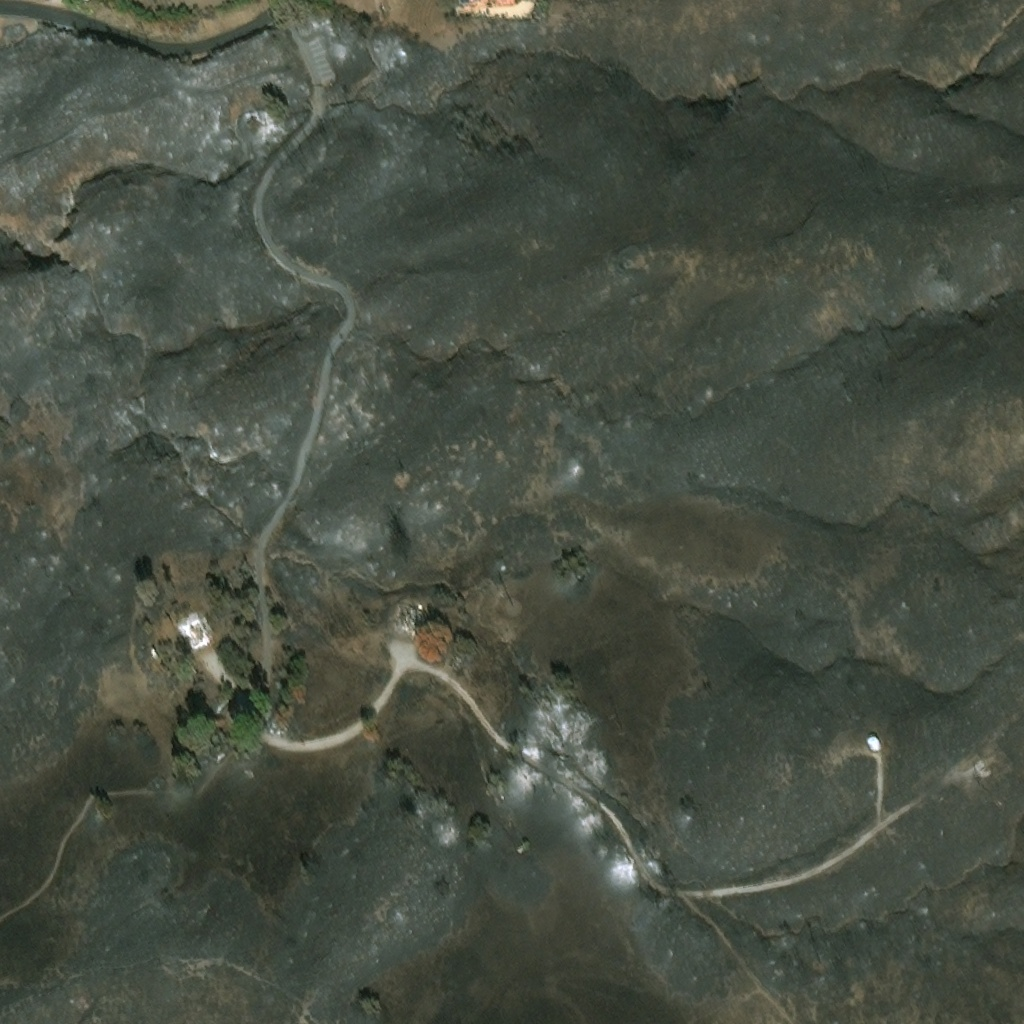3 destroyed: (177, 613, 210, 650), (391, 598, 422, 631), (976, 760, 992, 775), (865, 731, 877, 745)
